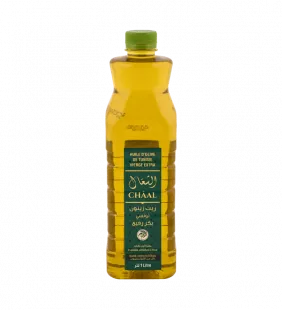CHAAL: (99, 19, 188, 284)
